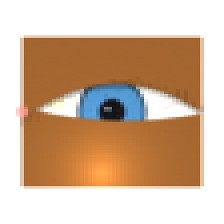pinguecula_lesion: (39, 88, 76, 118)
